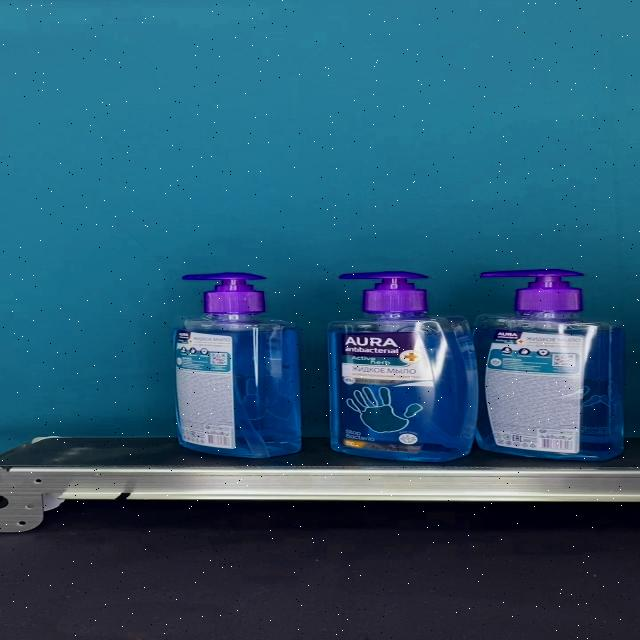Bottle: (326, 271, 478, 462), (472, 269, 623, 461), (170, 272, 302, 457)
Cap: (480, 269, 584, 312), (339, 271, 429, 313), (180, 272, 266, 313)
